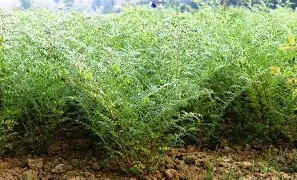crops: (0, 4, 294, 177), (234, 64, 296, 142), (61, 87, 129, 157), (223, 9, 297, 72), (94, 7, 182, 57), (181, 147, 297, 179), (99, 134, 165, 177), (2, 153, 97, 179), (0, 27, 34, 86), (164, 105, 207, 146), (94, 59, 139, 90), (142, 78, 180, 103), (202, 106, 228, 142), (0, 117, 25, 152), (239, 0, 292, 16), (188, 86, 219, 108), (221, 6, 247, 27), (71, 57, 94, 79), (275, 31, 295, 53), (3, 104, 27, 118)
